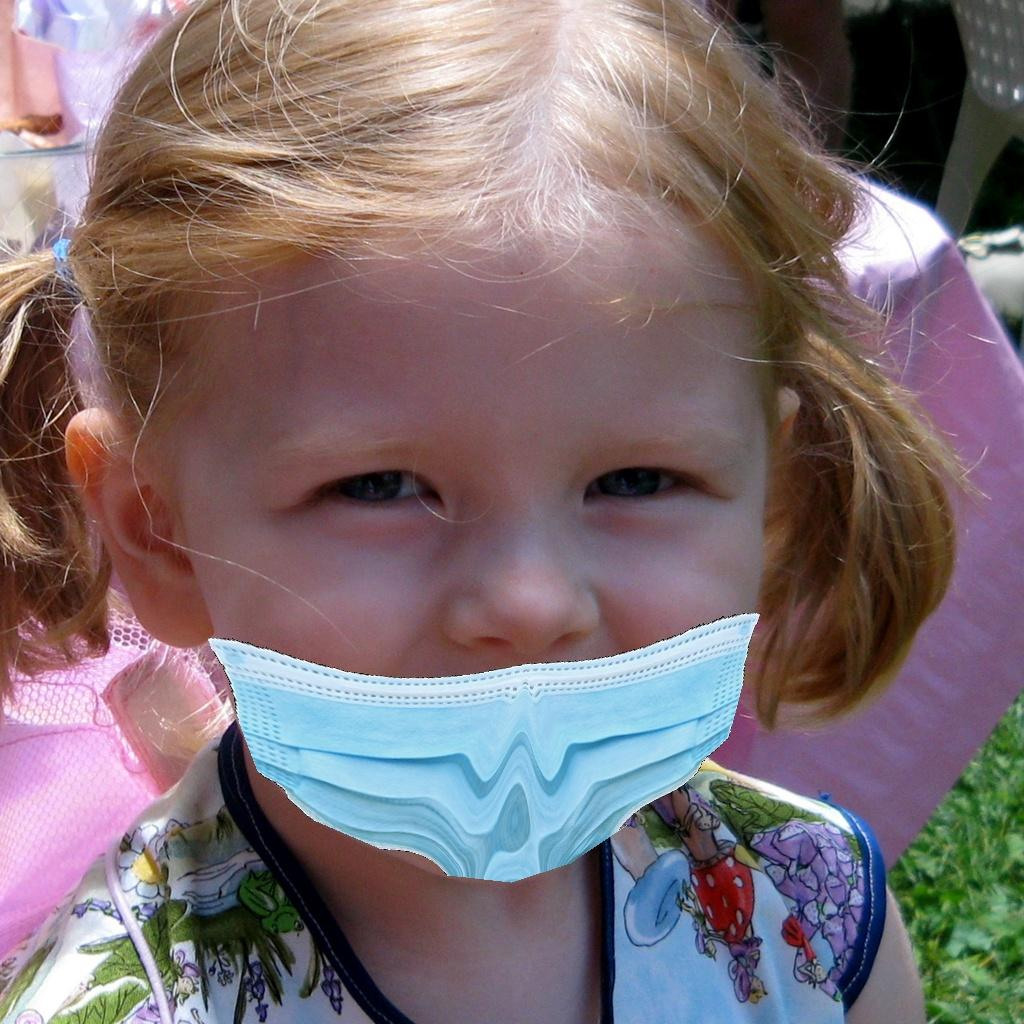Máscara Incorreta: (155, 290, 800, 878)
